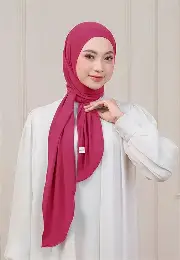kemeja_benar: (55, 24, 119, 99)
